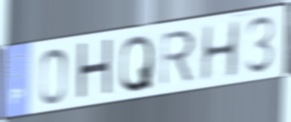0: (38, 45, 69, 107)
3: (245, 14, 277, 76)
H: (198, 18, 241, 84), (75, 36, 114, 105)
Q: (118, 32, 155, 95)
R: (159, 27, 197, 89)
